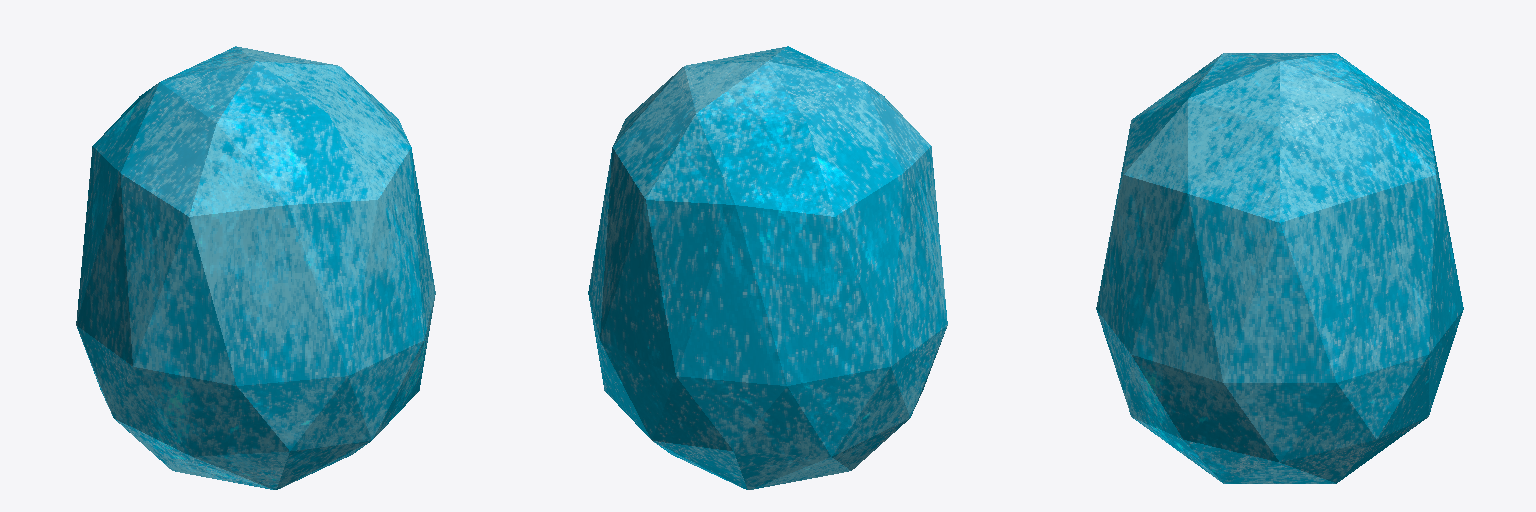
3 views of the same model, side by side, from view 1: azimuth 30°, elevation 25°; view 2: azimuth 150°, elevation 25°; view 3: azimuth 270°, elevation 25° (orthographic).
Parts seen in each view (by area): view 1: Icosphere; view 2: Icosphere; view 3: Icosphere.
Boxes of the visible parts, x1=… form: Icosphere: x1=76, y1=46, x2=435, y2=489; Icosphere: x1=588, y1=46, x2=947, y2=489; Icosphere: x1=1096, y1=53, x2=1463, y2=483.
Bounding box in the file's own units: 2.02 × 2.48 × 2.12.
Materials: 1 (1 with a texture image).